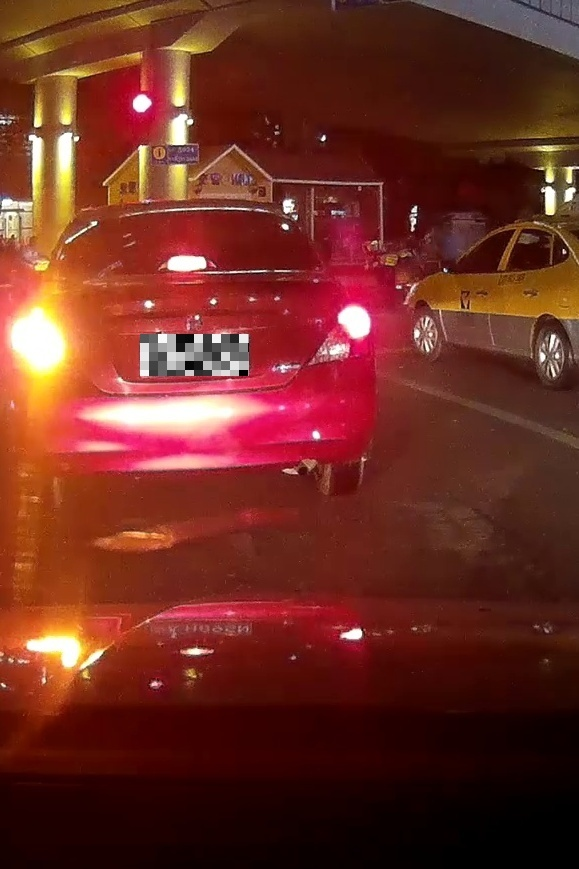L_light: (20, 316, 78, 375)
R_light: (307, 306, 373, 366)
T_light: (158, 256, 218, 269)
night-left: (19, 198, 377, 513)
plate_1: (140, 334, 249, 376)
